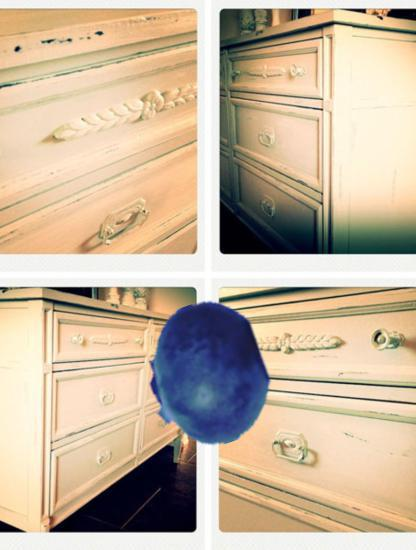Huckleberry: (135, 303, 279, 447)
